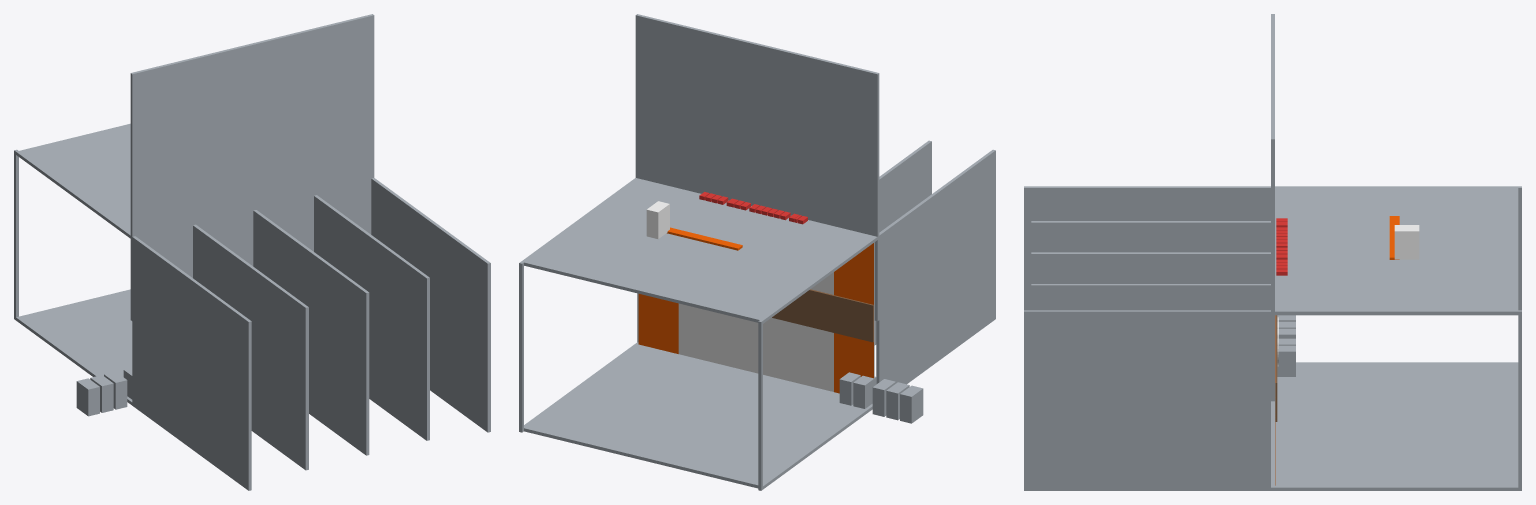
File: Kiot, đèn led 240 x 160 x 200.obj
3 renders of one model, left to right at view 1: azimuth 30°, elevation 25°; view 2: azimuth 150°, elevation 25°; view 3: azimuth 270°, elevation 25°, orthographic. The views are drawn at different scales.
Parts seen in each view (by area): view 1: kiot_den_led_240_x_160_x_200; view 2: kiot_den_led_240_x_160_x_200; view 3: kiot_den_led_240_x_160_x_200.
Boxes of the visible parts, bbox=[...] form: kiot_den_led_240_x_160_x_200: bbox=[14, 14, 490, 490]; kiot_den_led_240_x_160_x_200: bbox=[519, 14, 995, 490]; kiot_den_led_240_x_160_x_200: bbox=[1024, 14, 1521, 490].
Bounding box in the file's own units: 2.84 × 3.14 × 4.03.
